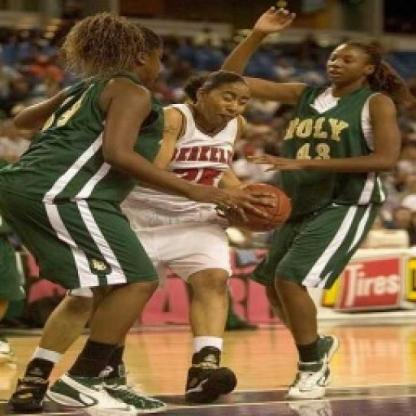basketball: (227, 182, 295, 235)
